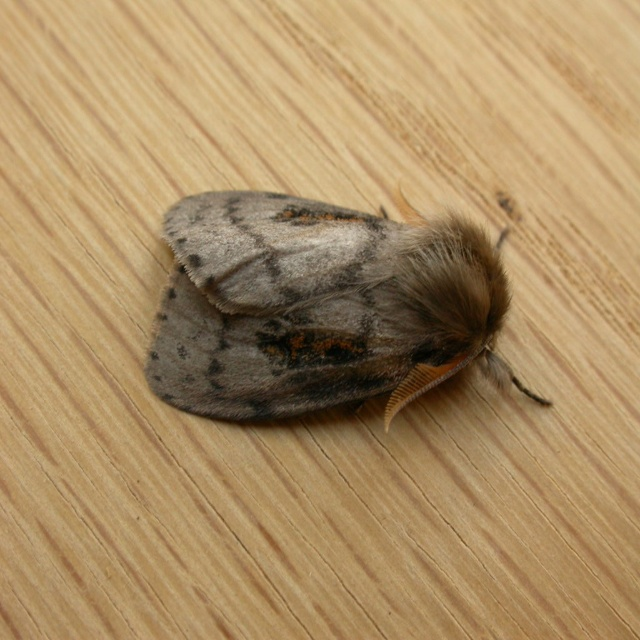Moths and butterflies: (144, 185, 555, 431)
